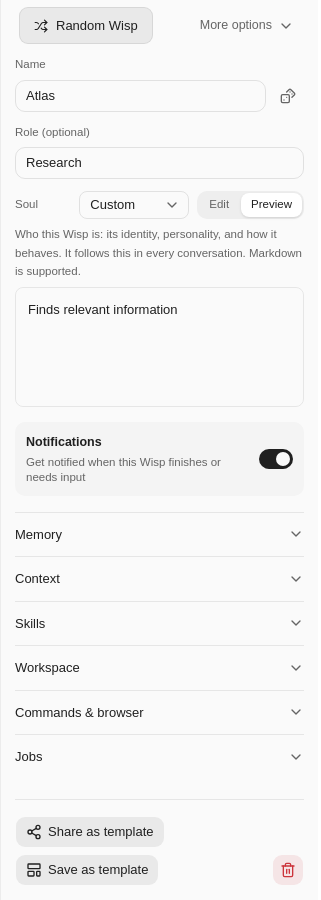
it: DetailsPanel template sharing › copies the soul and the model the Wisp runs on, without its appearance
The width and height of the screenshot is (321, 900).
(page scrolled)
Click the button "Share as template".
click(90, 832)  # box [15,816,164,848]
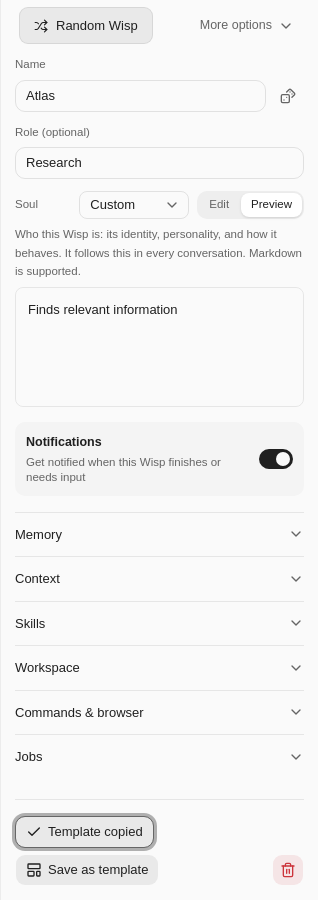
Expected: the button "Template copied" is shown, [15,816,154,848]
